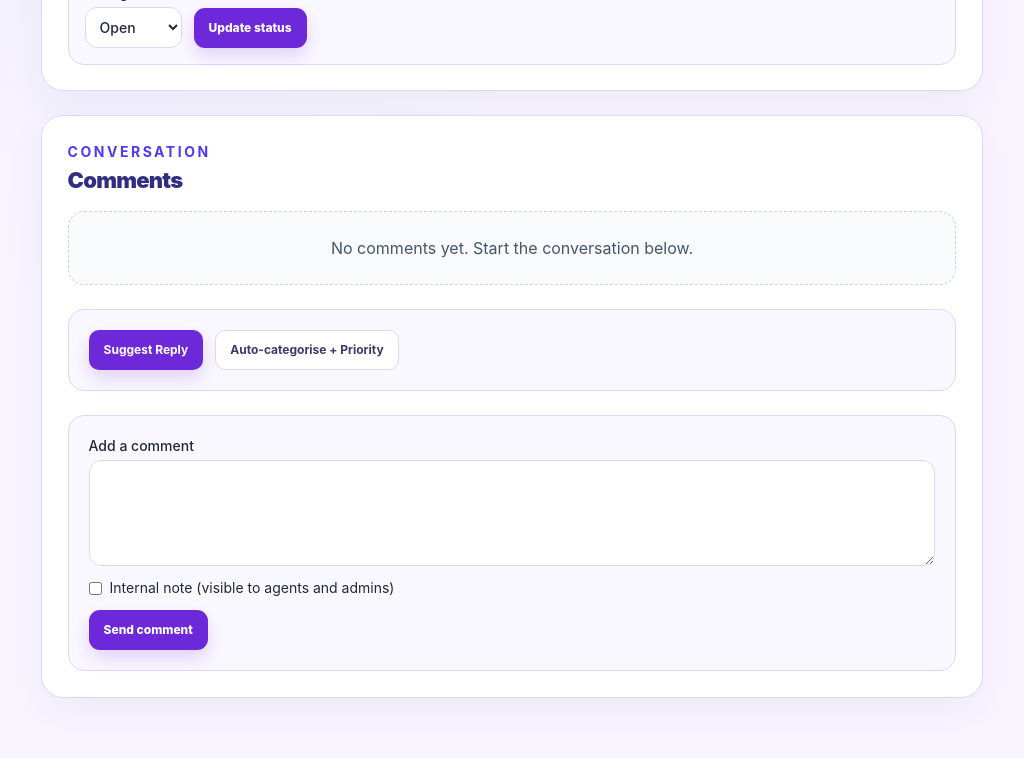
Ticket detail page › cancels reply generation without submitting the manual comment
(page scrolled)
Type "Keep this manually written reply." into the text box labelled "Add a comment" at [512, 513], box [88,460,935,566]
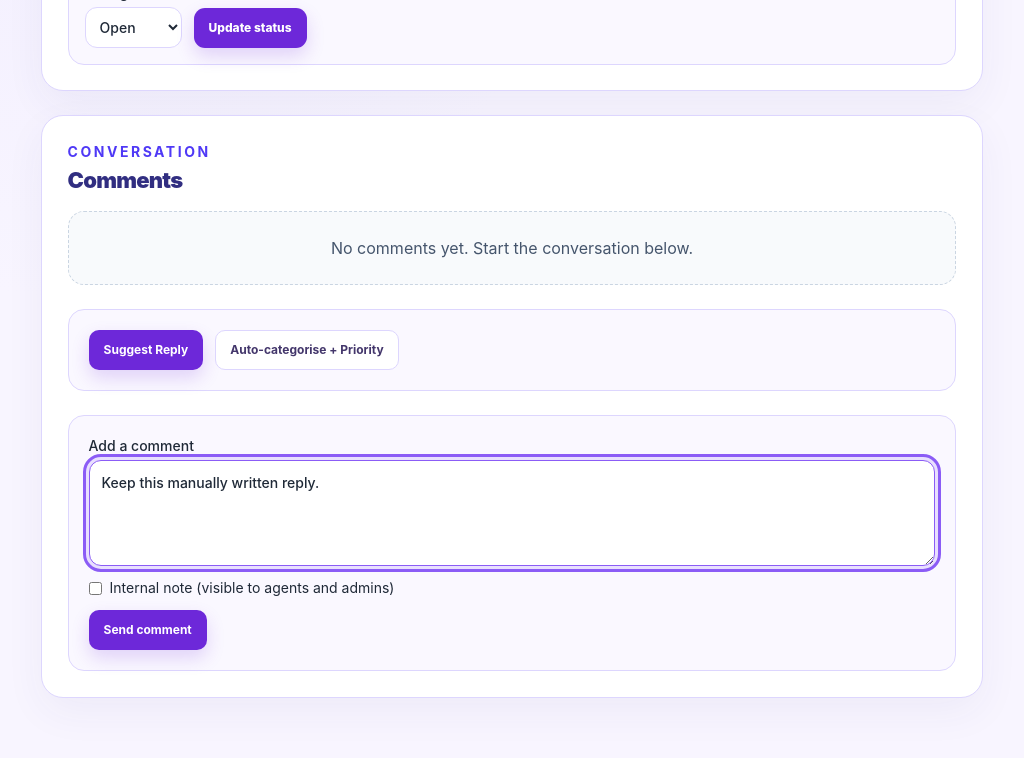
Click the button "Suggest Reply" at [146, 350], box [88,330,203,370]
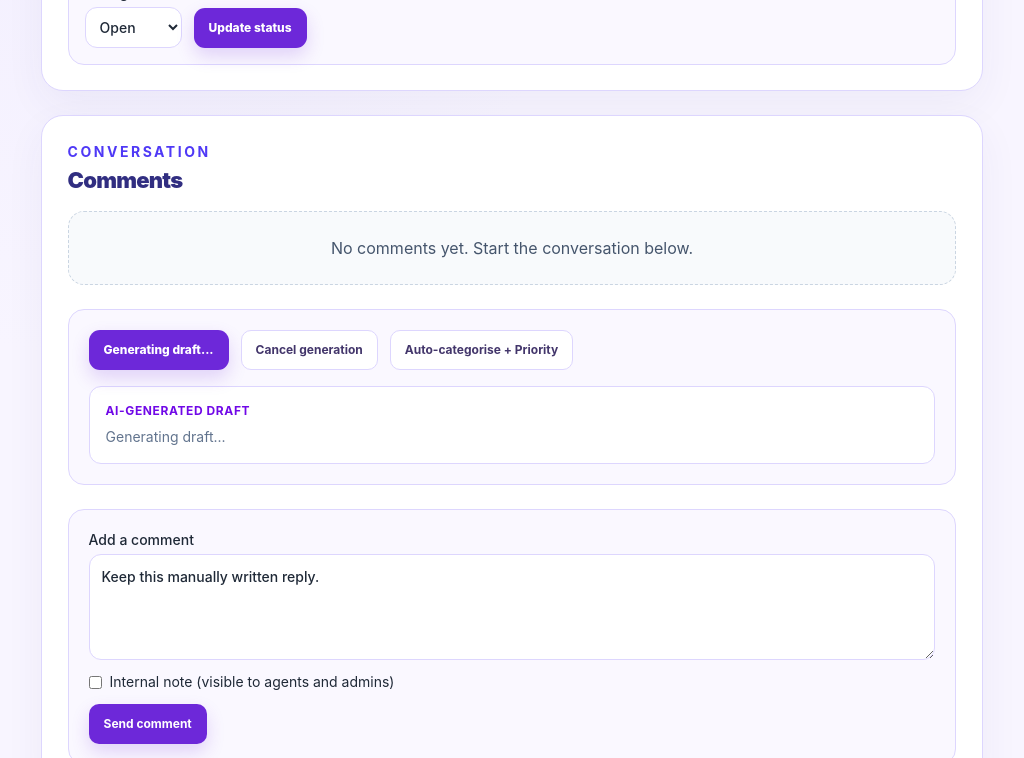
Click the button "Cancel generation" at [309, 350], box [241,330,378,370]
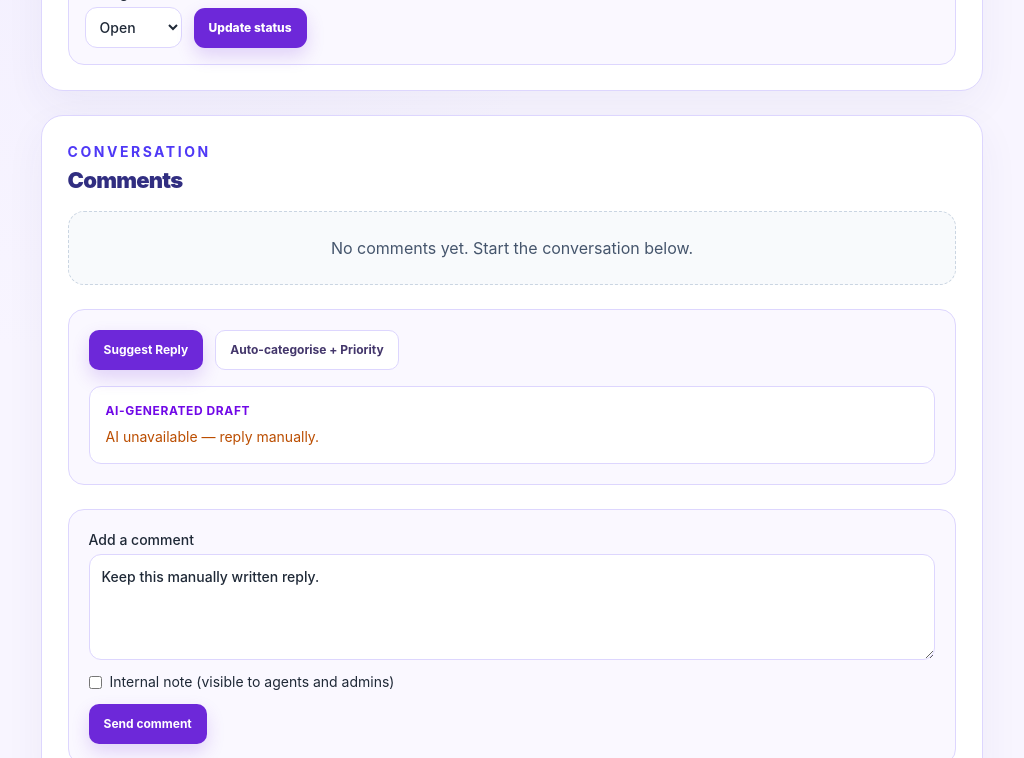
Now the text "AI unavailable — reply manually." is shown, box [106,428,319,445]
